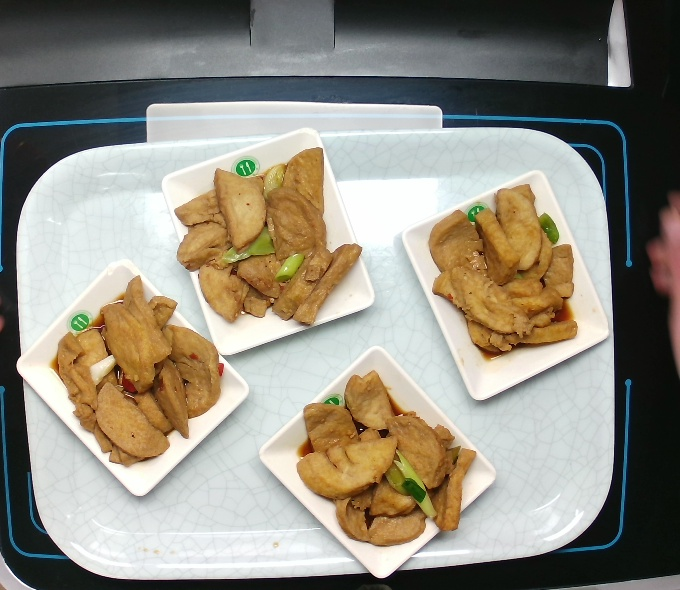wcq-SuJi: (175, 138, 369, 331), (45, 271, 226, 470), (294, 365, 478, 553), (420, 180, 590, 364)
